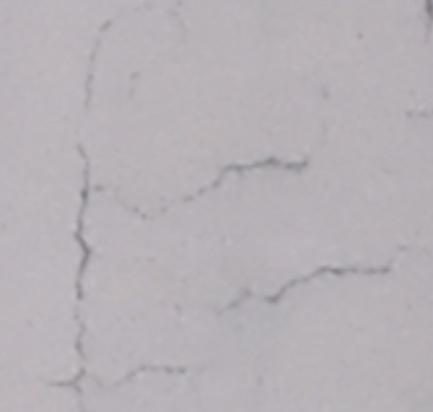fissura: (62, 128, 196, 411), (211, 235, 433, 335), (167, 146, 342, 210), (62, 15, 157, 121)
